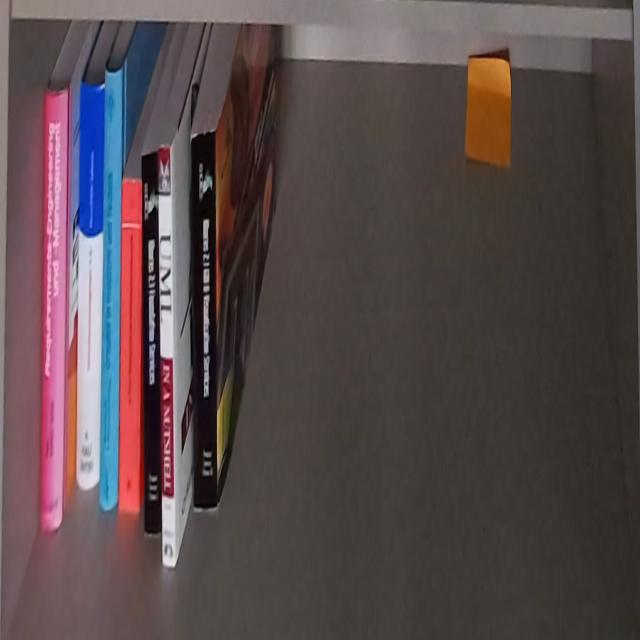Book Spine: (71, 74, 105, 493), (39, 84, 68, 535), (99, 66, 123, 517), (191, 127, 217, 513), (157, 140, 177, 567), (141, 151, 161, 543), (119, 181, 141, 519)
